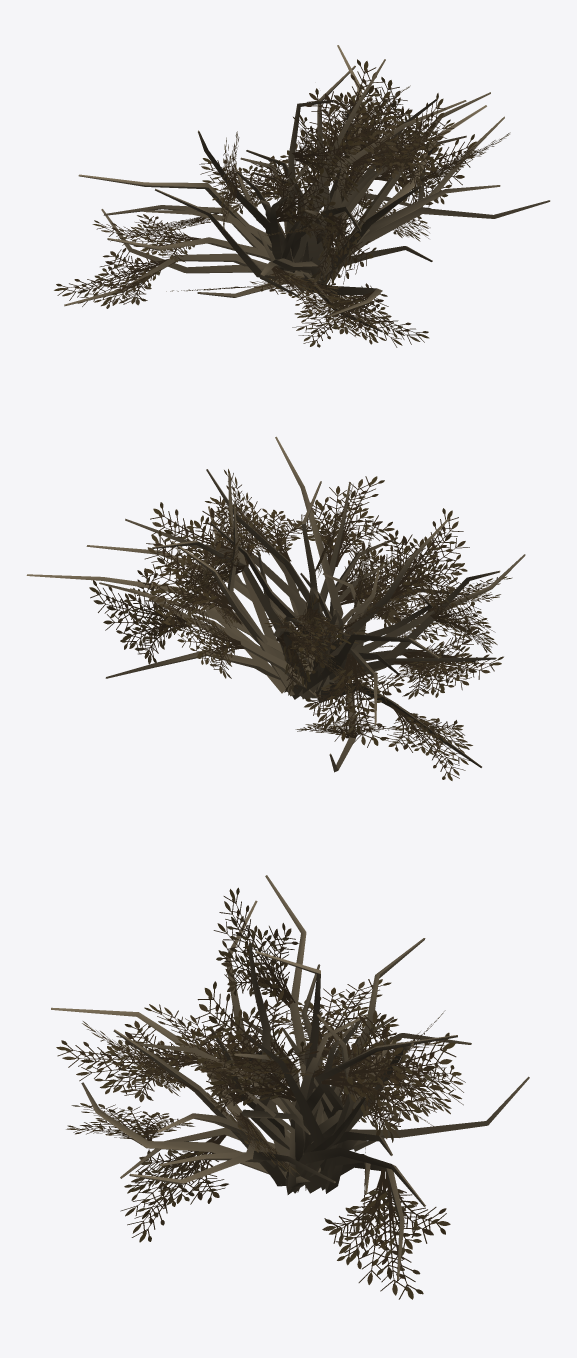
Rendered from shrub_dry_bush.glb.
3 renders of one model, top to bottom at view 1: azimuth 30°, elevation 25°; view 2: azimuth 150°, elevation 25°; view 3: azimuth 270°, elevation 25°, orthographic. The views are drawn at different scales.
Visible parts, largest first — view 1: shrub_dry_bush_shrub_dry_leaves, shrub_dry_bush_twig_dry; view 2: shrub_dry_bush_shrub_dry_leaves, shrub_dry_bush_twig_dry; view 3: shrub_dry_bush_shrub_dry_leaves, shrub_dry_bush_twig_dry.
Part boxes in pixels (x1,y1,x2,y2): shrub_dry_bush_shrub_dry_leaves: [54, 59, 510, 347]; shrub_dry_bush_twig_dry: [64, 45, 550, 332]; shrub_dry_bush_shrub_dry_leaves: [89, 469, 512, 780]; shrub_dry_bush_twig_dry: [26, 436, 525, 772]; shrub_dry_bush_shrub_dry_leaves: [56, 887, 465, 1299]; shrub_dry_bush_twig_dry: [51, 875, 529, 1281].
Bounding box in the file's own units: 1.33 × 0.7439 × 1.01.
Materials: 2 (1 with a texture image).
